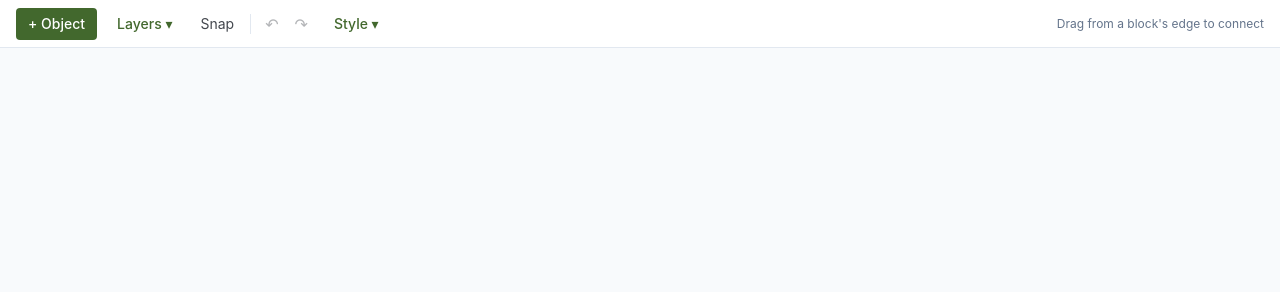
Test: ArchitectureCanvas › contextual segment › offers Line style, Arrow start and Arrow end when a connection is selected
Click the button "Style ▾" at x=356, y=24, box x1=322 y1=8 x2=391 y2=40
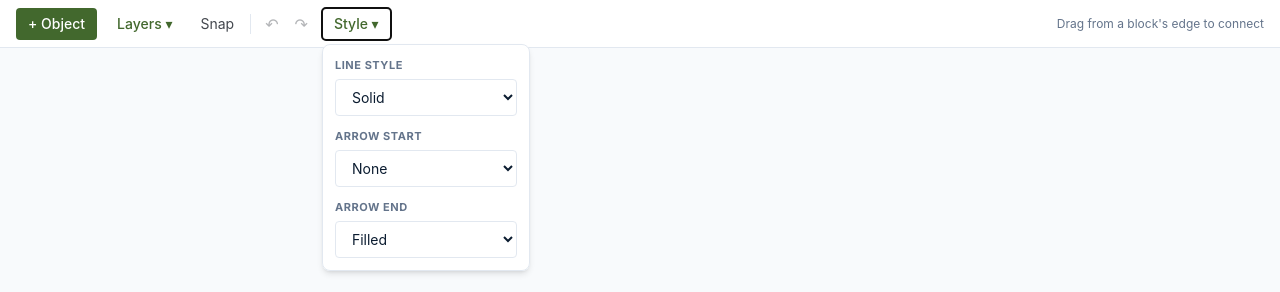
expect the dropdown named "Line style" is shown: met, box x1=335 y1=78 x2=517 y2=116
expect the dropdown named "Arrow end" shows "Filled": met, box x1=335 y1=220 x2=517 y2=258
